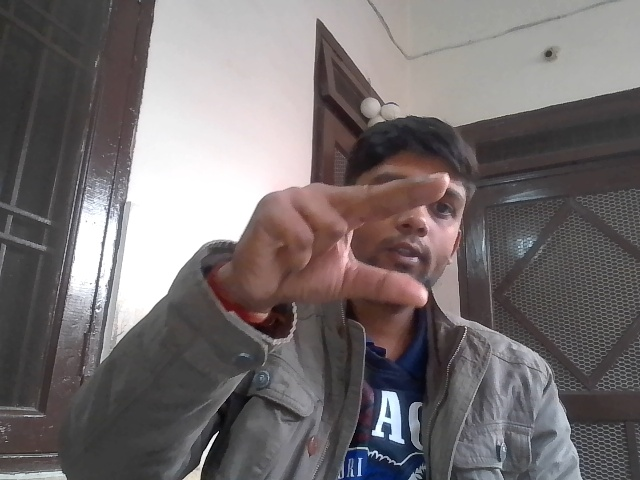No: (244, 177, 460, 308)
